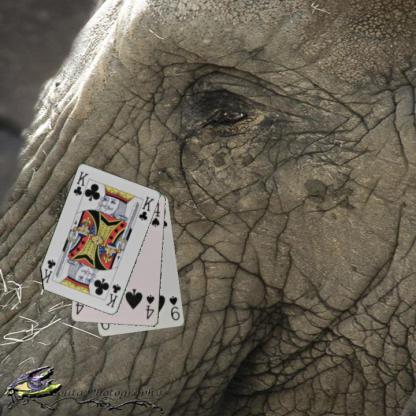4s: (144, 292, 156, 321)
9s: (166, 293, 182, 322)
Kc: (70, 169, 90, 197), (103, 281, 122, 309)
